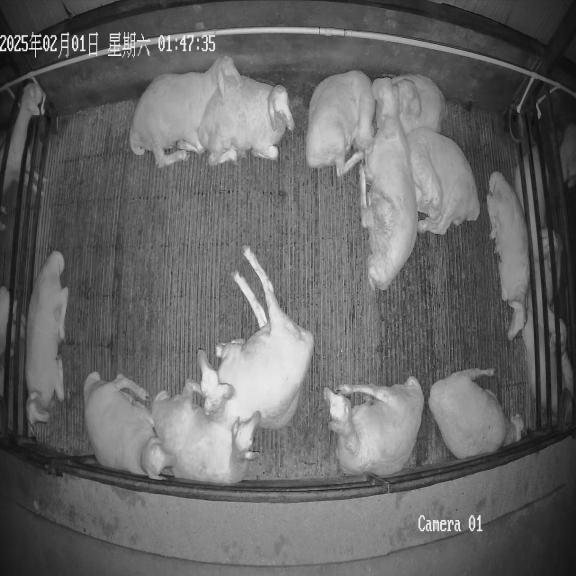lying: (198, 247, 314, 430), (128, 56, 243, 168), (361, 78, 418, 290), (324, 377, 424, 476), (83, 372, 171, 478), (428, 369, 524, 459), (198, 76, 294, 165), (152, 380, 236, 476), (25, 251, 68, 434), (407, 127, 479, 234), (306, 70, 375, 176), (487, 172, 529, 340), (172, 413, 260, 484), (391, 74, 446, 134)
